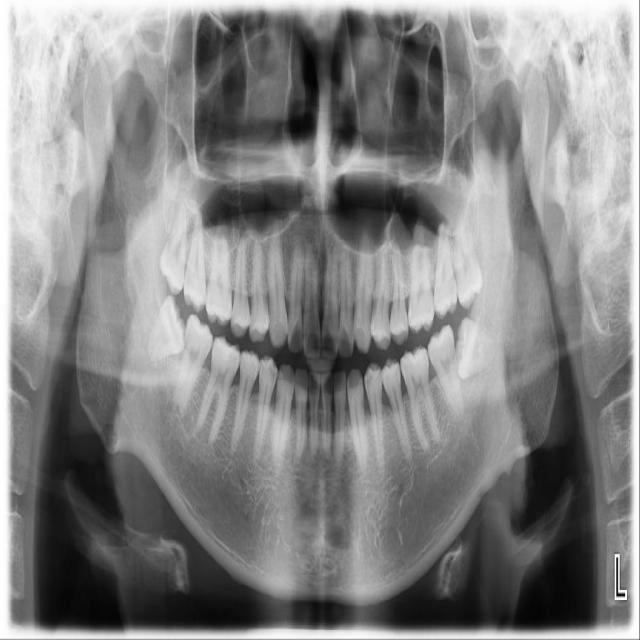impacted tooth: (457, 318, 500, 377), (149, 296, 184, 360)
